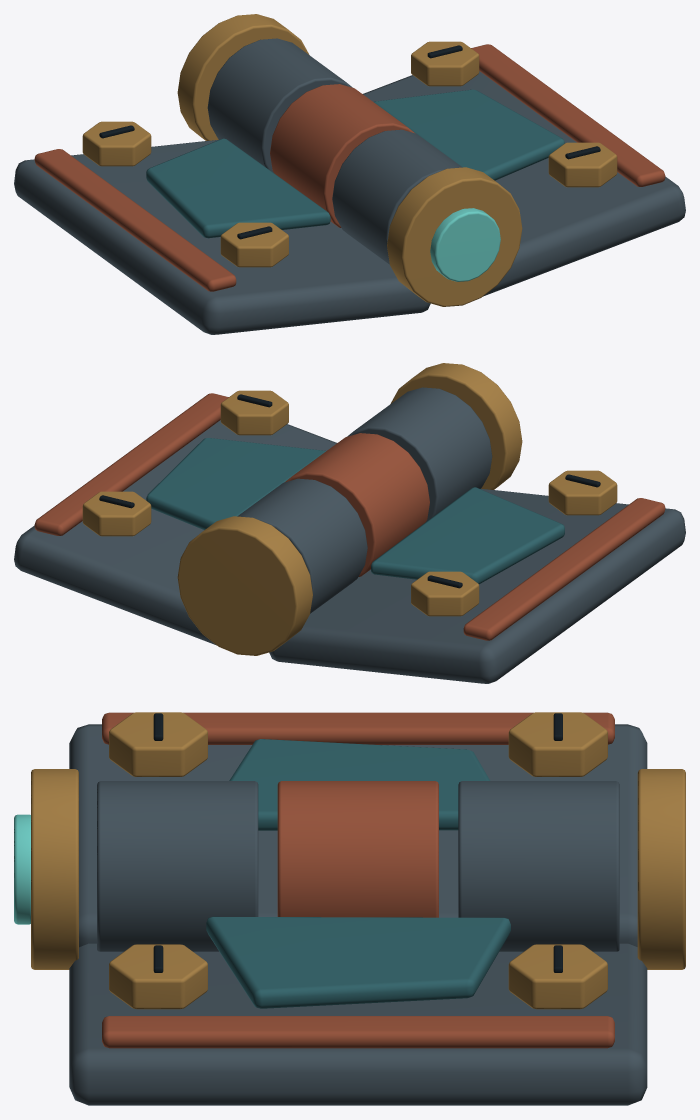
The model's file is rusted_guillotine_hinge.glb.
The picture shows the model from 3 angles, top to bottom: view 1: azimuth 30°, elevation 25°; view 2: azimuth 150°, elevation 25°; view 3: azimuth 270°, elevation 25°; orthographic projection. The views are drawn at different scales.
Visible parts, largest first — view 1: SM_rusted_guillotine_hinge; view 2: SM_rusted_guillotine_hinge; view 3: SM_rusted_guillotine_hinge.
Boxes of the visible parts, left/top/right/bottom form: SM_rusted_guillotine_hinge: left=14, top=14, right=685, bottom=334; SM_rusted_guillotine_hinge: left=14, top=363, right=685, bottom=683; SM_rusted_guillotine_hinge: left=14, top=712, right=685, bottom=1105.
Size of the model in its own units: 0.3358 by 0.0937 by 0.279.
